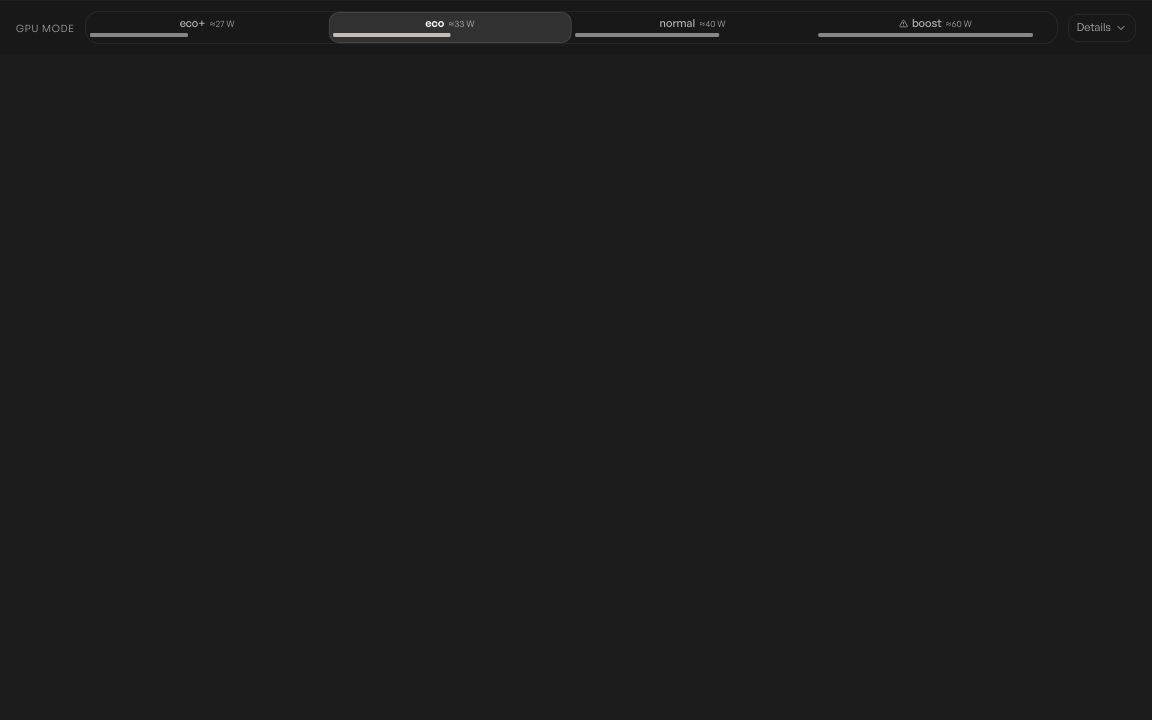
DeviceModeStrip › drops the target again when saving fails, so nobody waits for nothing
Click the radio button with test id "compact-mode-boost" at (935, 28), box [814,12,1057,43]
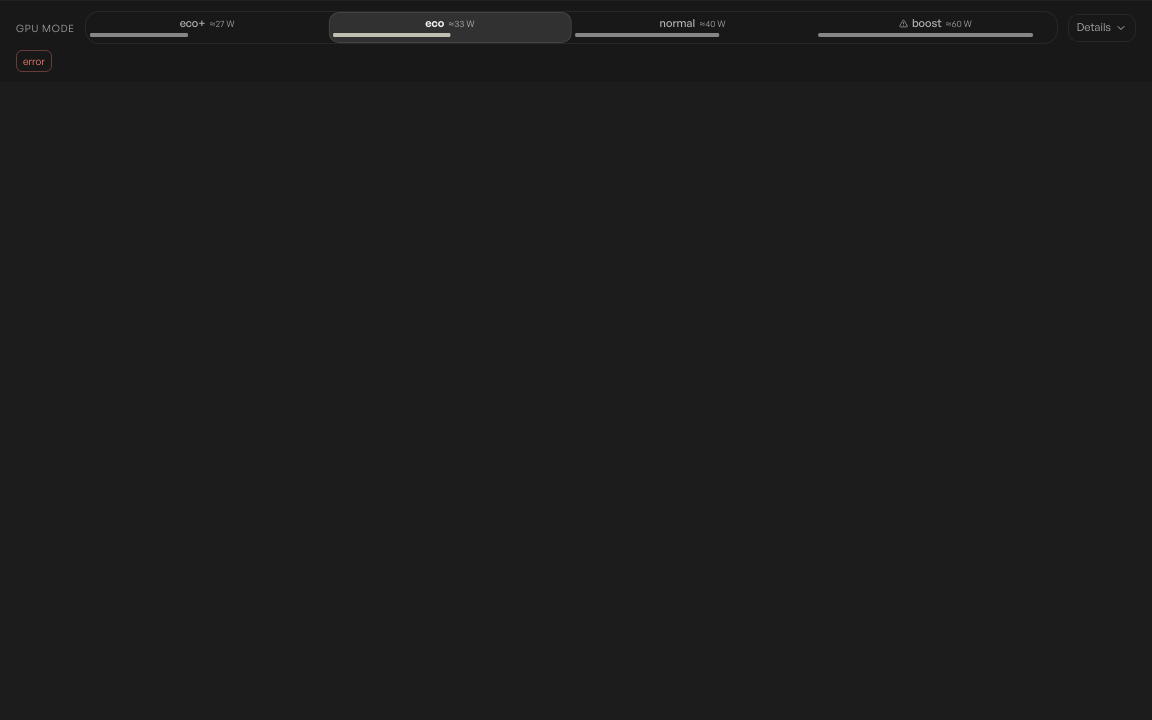
Click the button with test id "device-toggle-detail" at (1102, 28), box [1068,14,1136,42]
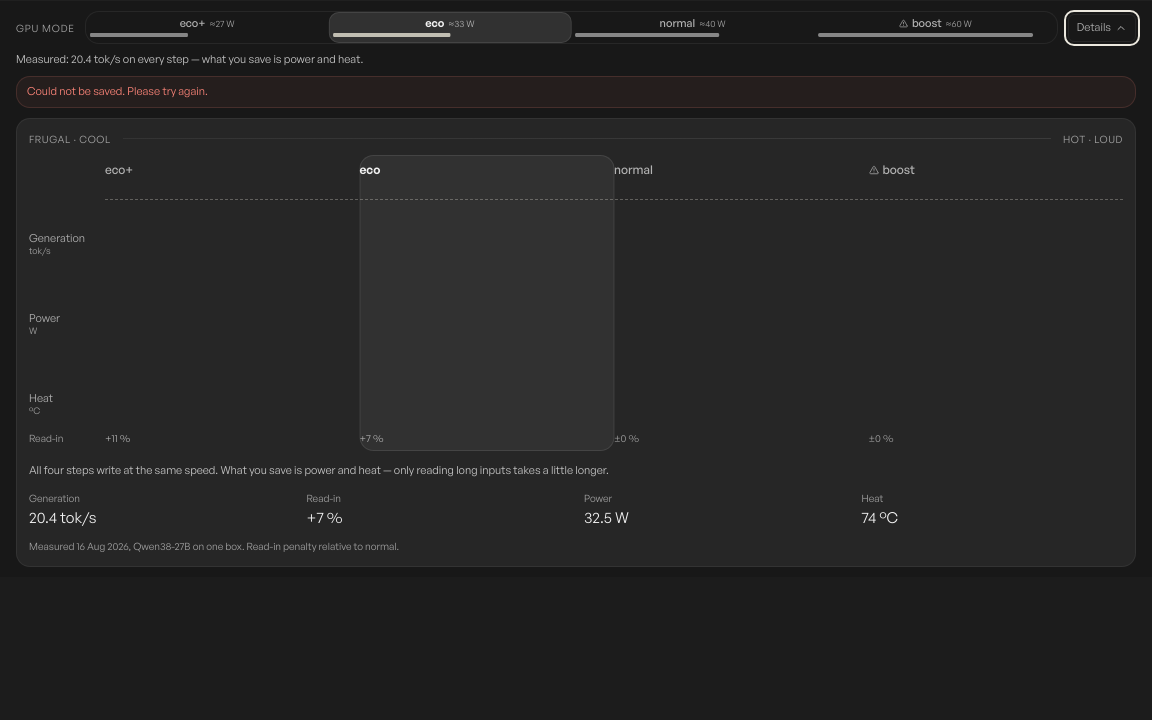
Expected: the element with test id "device-detail" is shown
Expected: the text "Could not be saved. Please try again." is shown, [16,76,1136,108]
